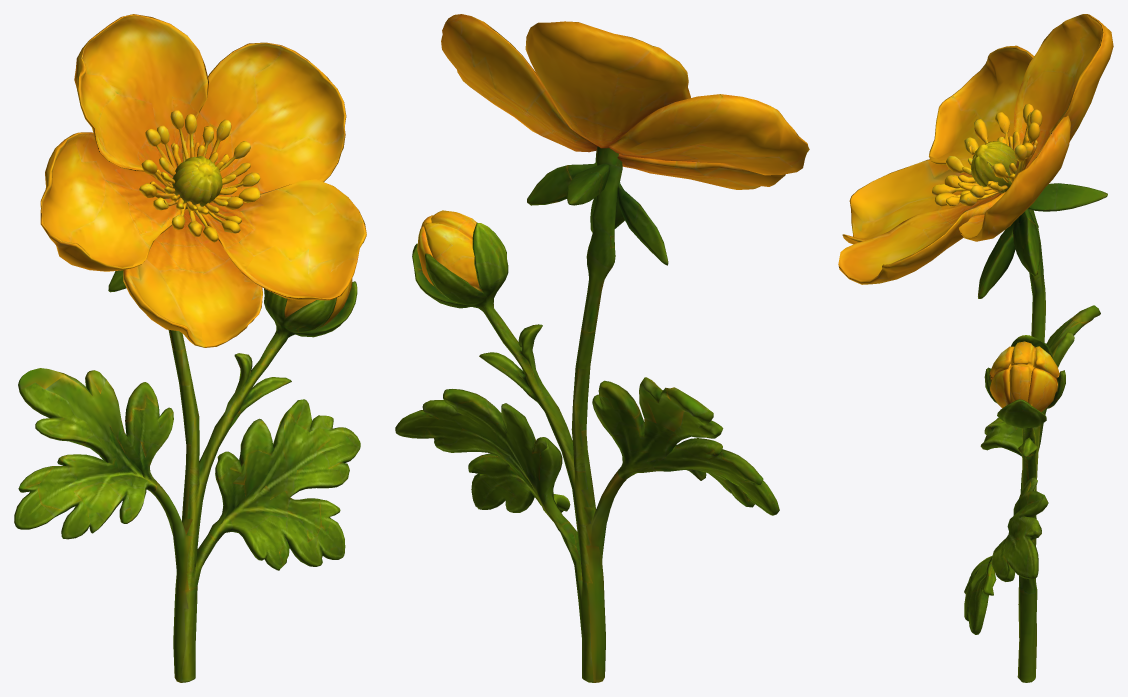
The model's file is buttercup.glb.
3 renders of one model, left to right at view 1: azimuth 30°, elevation 25°; view 2: azimuth 150°, elevation 25°; view 3: azimuth 270°, elevation 25°, orthographic. The views are drawn at different scales.
Visible parts, largest first — view 1: geometry_0; view 2: geometry_0; view 3: geometry_0.
Boxes of the visible parts, x1,y1,x2,y2 form: geometry_0: [14, 14, 366, 682]; geometry_0: [395, 14, 809, 682]; geometry_0: [838, 14, 1113, 682].
Size of the model in its own units: 0.5444 by 0.9526 by 0.3701.
Materials: 1 (1 with a texture image).
